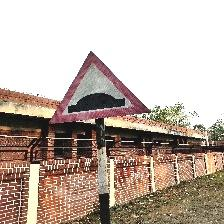Speed-breaker: (49, 51, 152, 123)
